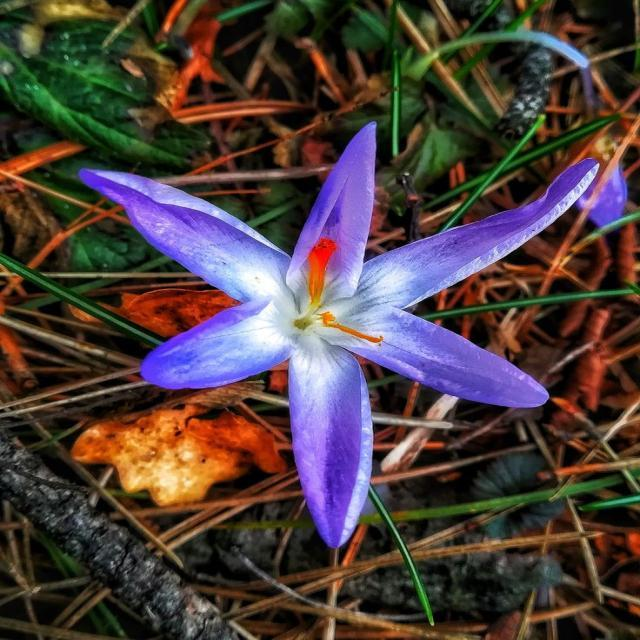Flower: (78, 120, 600, 550)
stigma: (293, 232, 343, 320), (311, 320, 395, 348)
